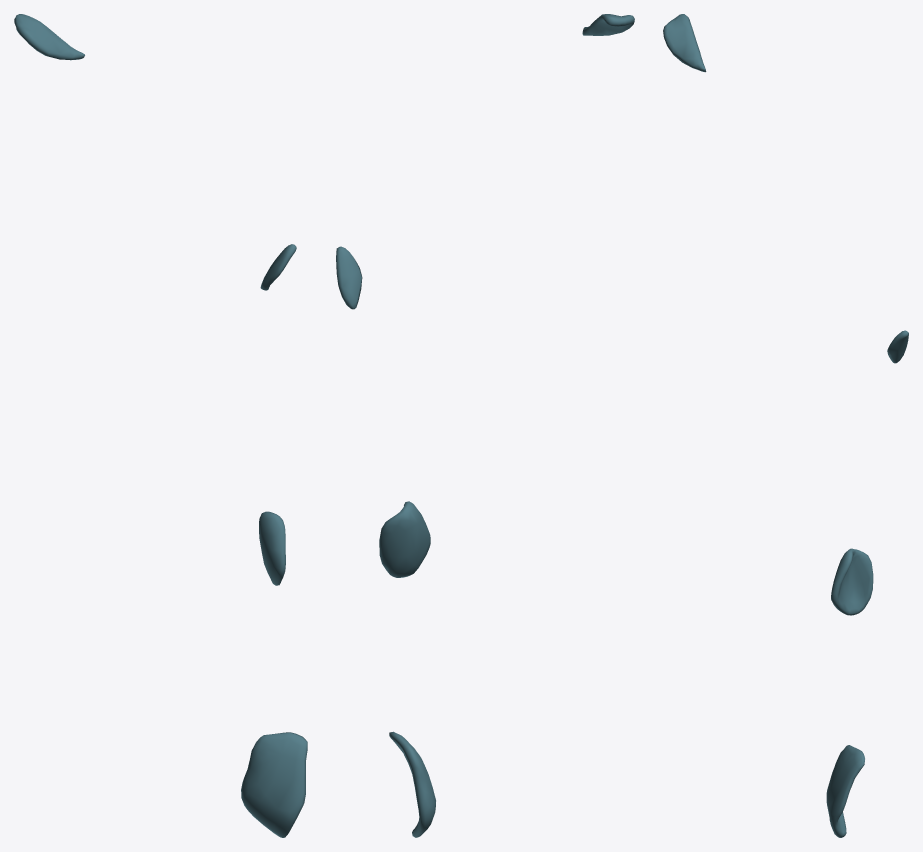
File: Levator_scapulae-_Insertion.r_Generated_Mesh_From_X3D.961.glb
The picture shows the model from 3 angles, left to right: view 1: azimuth 30°, elevation 25°; view 2: azimuth 150°, elevation 25°; view 3: azimuth 330°, elevation 25°; orthographic projection. The views are drawn at different scales.
Parts seen in each view (by area): view 1: Levator_scapulae-_Insertion.r_Generated_Mesh_From_X3D.961; view 2: Levator_scapulae-_Insertion.r_Generated_Mesh_From_X3D.961; view 3: Levator_scapulae-_Insertion.r_Generated_Mesh_From_X3D.961.
Part boxes in pixels (x1,y1,x2,y2): Levator_scapulae-_Insertion.r_Generated_Mesh_From_X3D.961: (14, 14, 307, 837); Levator_scapulae-_Insertion.r_Generated_Mesh_From_X3D.961: (336, 14, 634, 837); Levator_scapulae-_Insertion.r_Generated_Mesh_From_X3D.961: (663, 14, 908, 837).
Bounding box in the file's own units: 0.0169 × 0.0497 × 0.00589.
